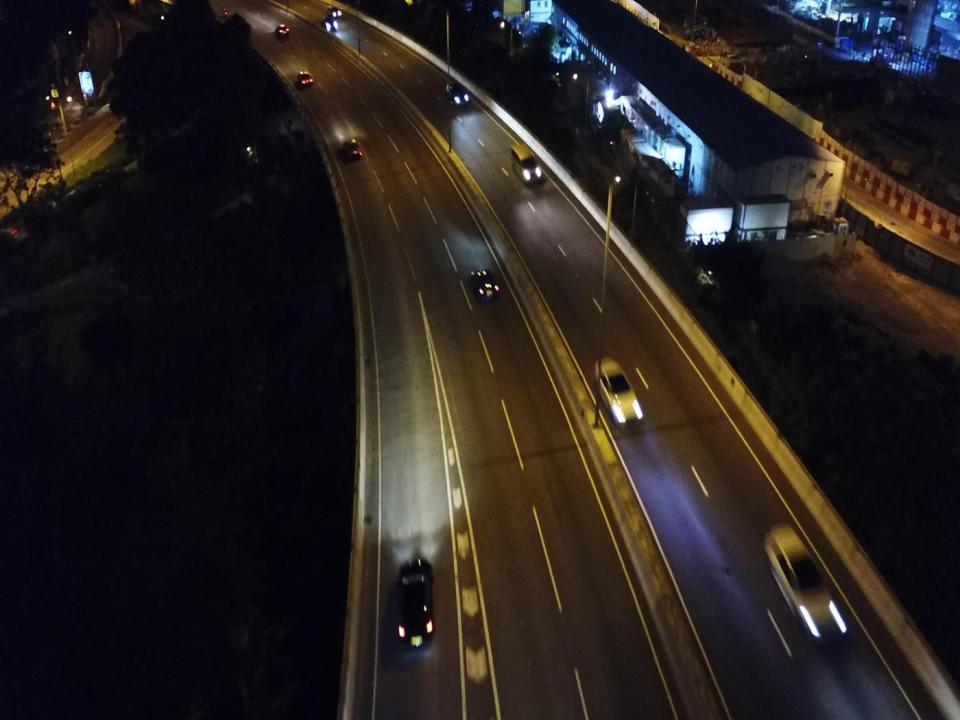car: (765, 524, 844, 640), (398, 556, 434, 648), (594, 359, 642, 426), (469, 270, 499, 304), (446, 80, 468, 108), (344, 138, 362, 159), (298, 70, 314, 87), (321, 19, 338, 32), (274, 24, 290, 37), (327, 6, 342, 18)
van: (511, 144, 542, 186)
